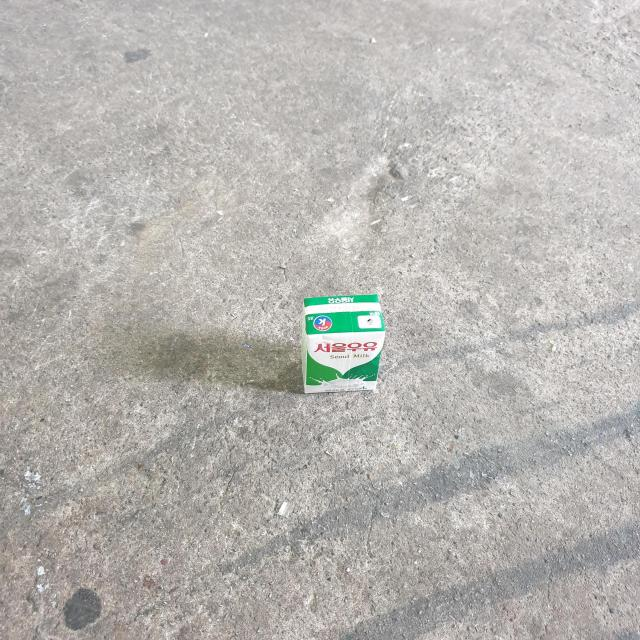paperpack: (302, 295, 386, 394)
